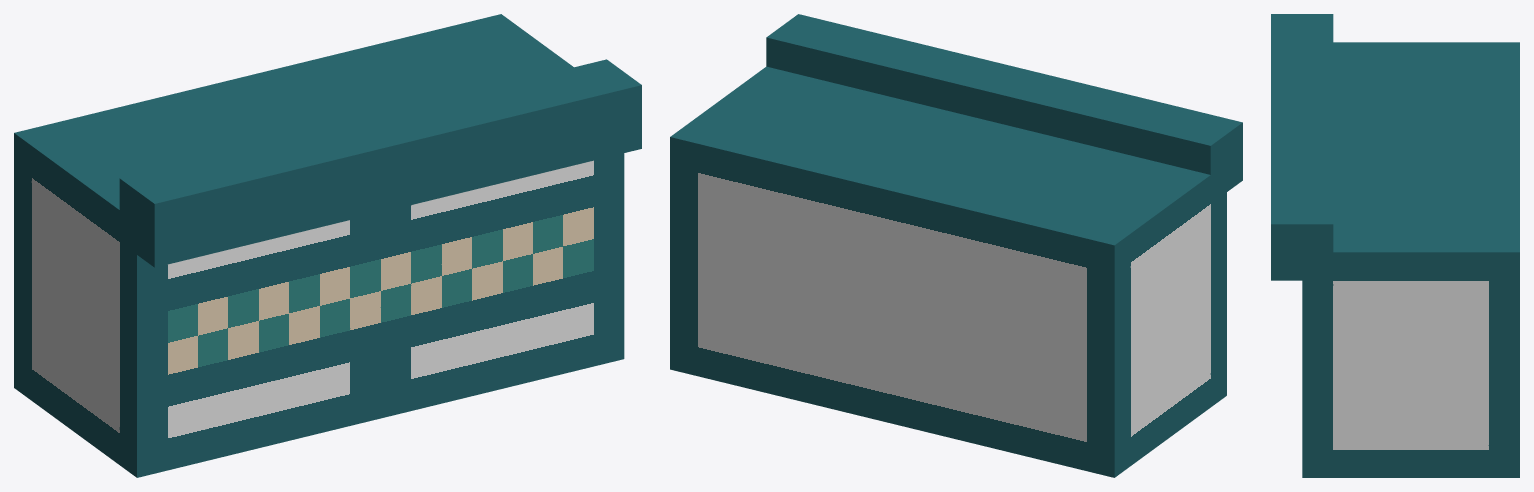
File: lada_export.dae
3 renders of one model, left to right at view 1: azimuth 30°, elevation 25°; view 2: azimuth 150°, elevation 25°; view 3: azimuth 270°, elevation 25°, orthographic. The views are drawn at different scales.
Visible parts, largest first — view 1: lada; view 2: lada; view 3: lada.
Boxes of the visible parts, box(x1,y1,x2,y2) form: lada: box(14, 14, 641, 477); lada: box(670, 14, 1242, 477); lada: box(1271, 14, 1519, 477).
Bounding box in the file's own units: 16 × 9 × 8.
Materials: 1 (1 with a texture image).
